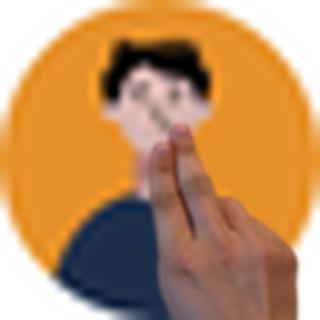DHAVE: (142, 121, 304, 320)
